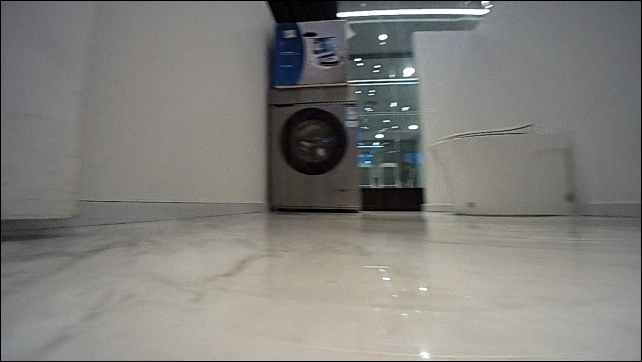toilet: (429, 118, 579, 216)
washing_machine: (265, 85, 363, 213)
